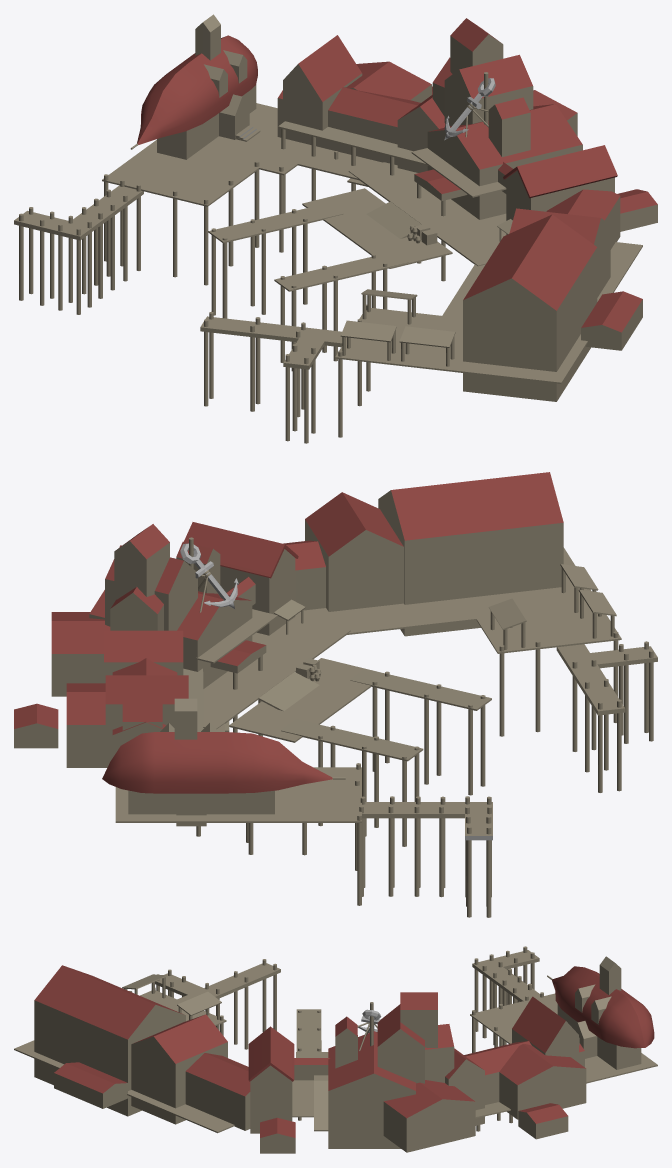
File: mdl_dock01.fbx
The picture shows the model from 3 angles, top to bottom: view 1: azimuth 30°, elevation 25°; view 2: azimuth 150°, elevation 25°; view 3: azimuth 270°, elevation 25°; orthographic projection. The views are drawn at different scales.
Parts seen in each view (by area): view 1: dock3; view 2: dock3; view 3: dock3.
Boxes of the visible parts, <box> form: dock3: <box>14,14,657,443</box>; dock3: <box>14,472,657,917</box>; dock3: <box>14,946,657,1153</box>.
Bounding box in the file's own units: 1612 × 723 × 2166.
